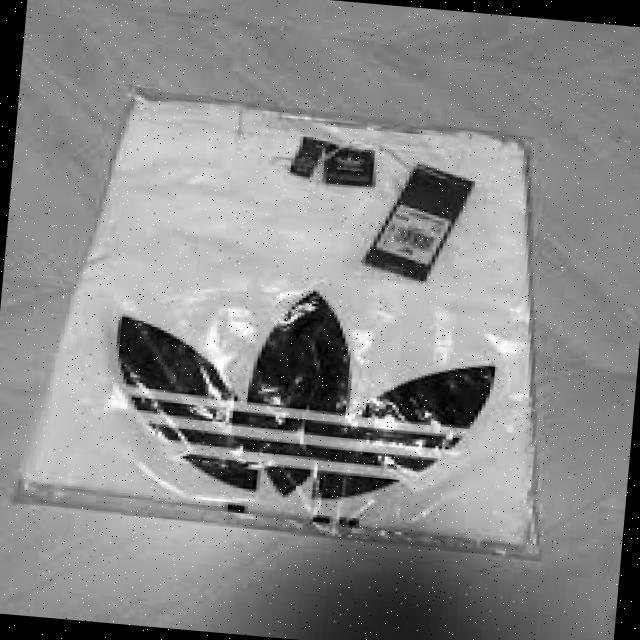Adidas: (50, 253, 528, 571)
